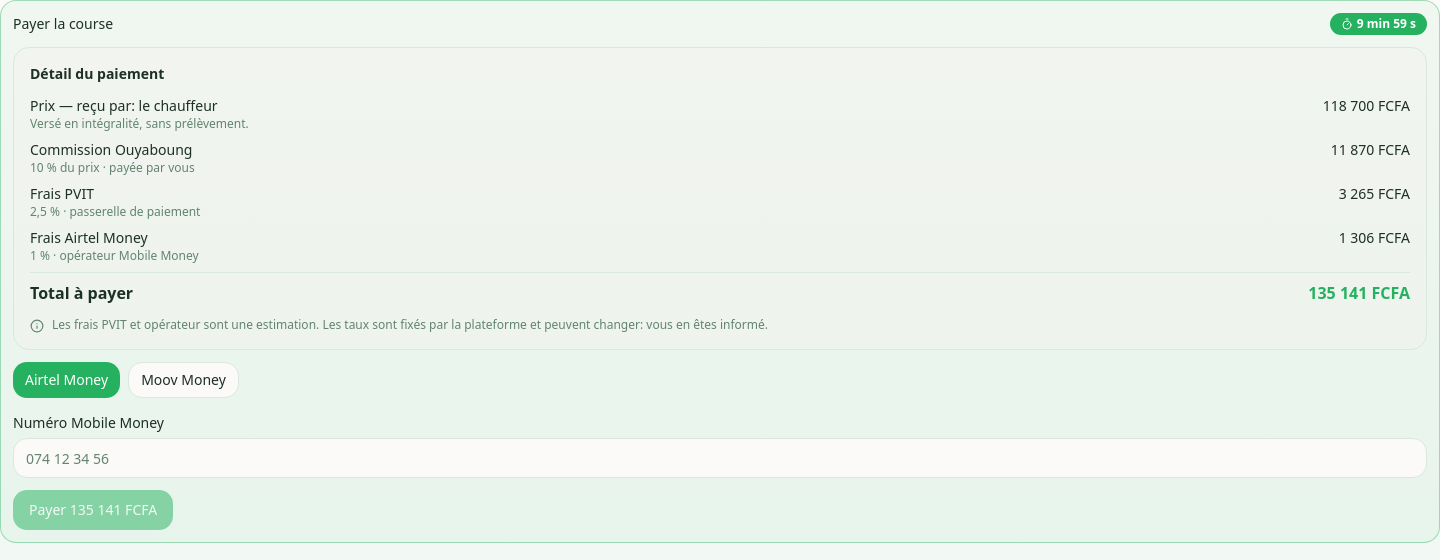
Test: TransportPaymentSection › cannot pay without a phone number
Expected: the button "Payer 135 141 FCFA" is disabled, [13,490,173,530]
Type "0771" into the field labelled "Numéro Mobile Money" at (720, 458), box [13,438,1427,478]
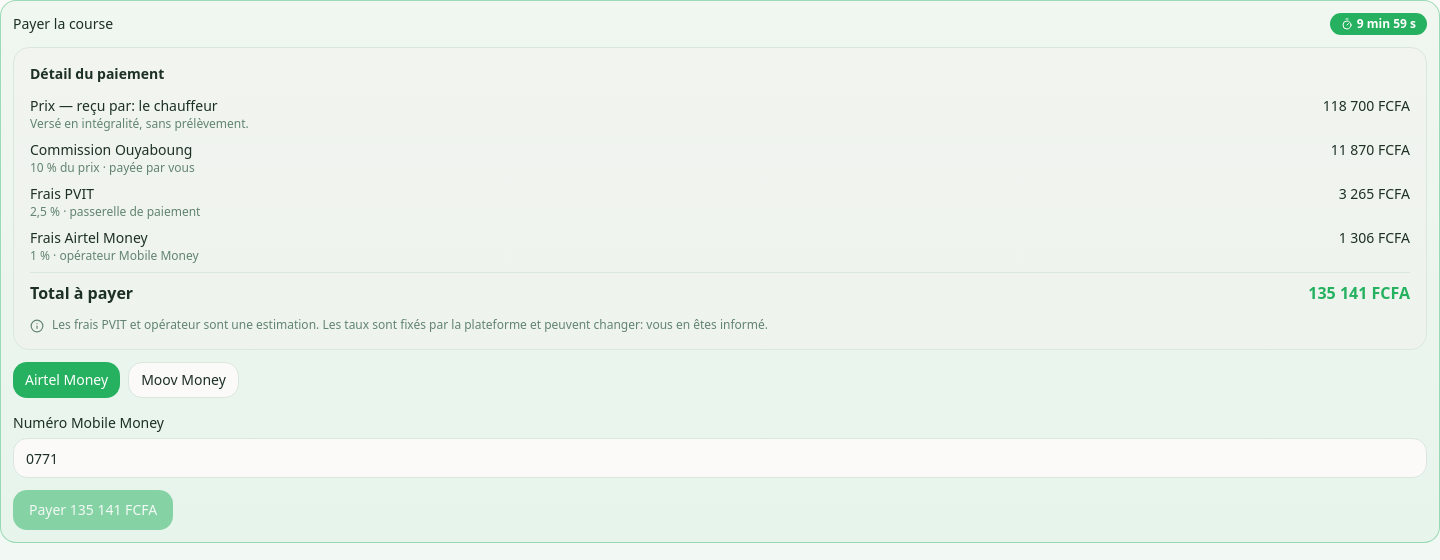
Expected: the button "Payer 135 141 FCFA" is disabled, [13,490,173,530]
Replace the text in the field labelled "Numéro Mobile Money" with "077123456" at (720, 458), box [13,438,1427,478]
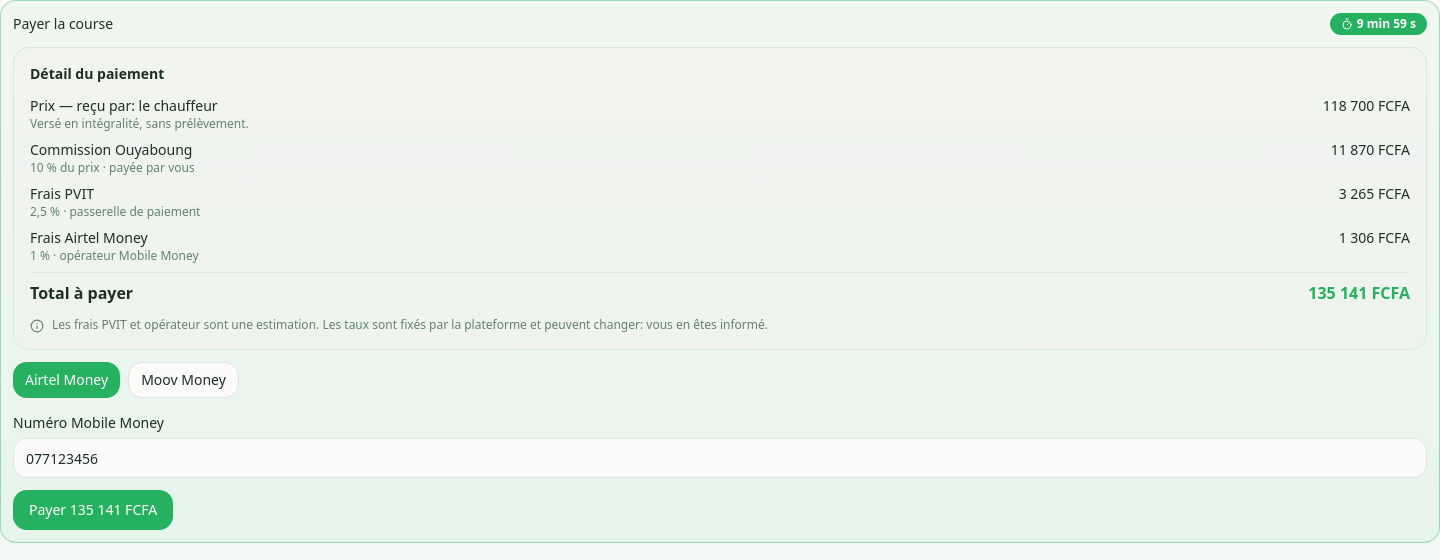
Now the button "Payer 135 141 FCFA" is enabled, box [13,490,173,530]
